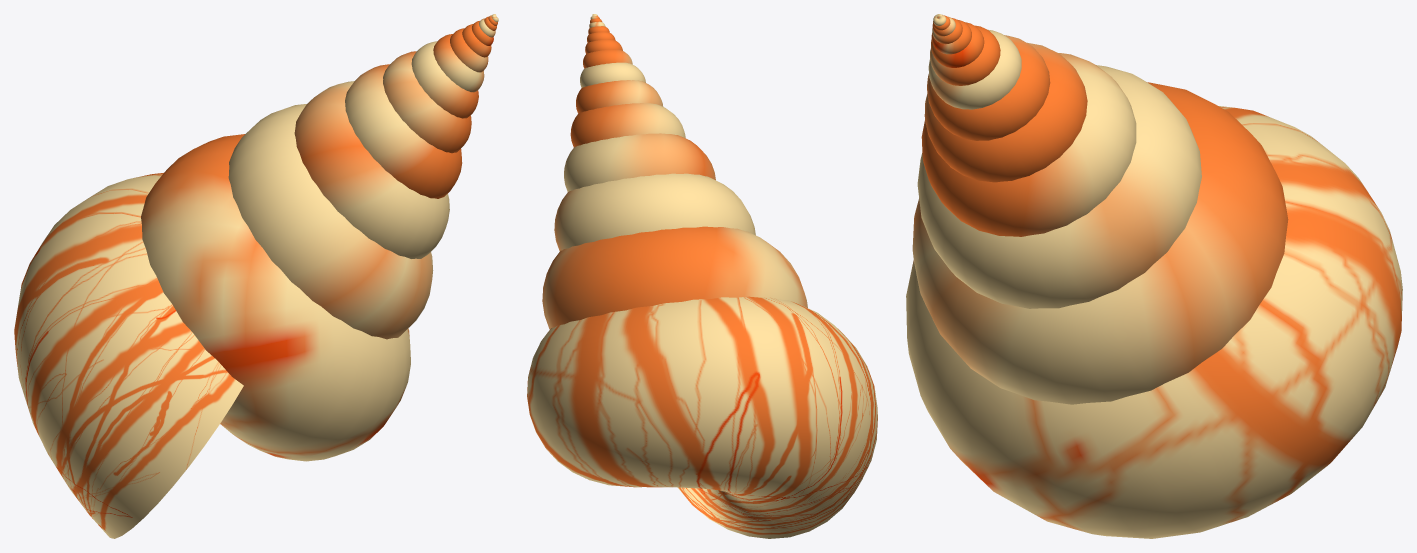
The model's file is sea_shell_3d.glb.
The picture shows the model from 3 angles, left to right: view 1: azimuth 30°, elevation 25°; view 2: azimuth 150°, elevation 25°; view 3: azimuth 270°, elevation 25°; orthographic projection. The views are drawn at different scales.
Parts seen in each view (by area): view 1: Circle; view 2: Circle; view 3: Circle.
Part boxes in pixels (x1,y1,x2,y2): Circle: [14, 14, 498, 538]; Circle: [527, 14, 877, 538]; Circle: [906, 14, 1402, 538].
Bounding box in the file's own units: 3.35 × 4.05 × 2.85.
Materials: 1 (1 with a texture image).
